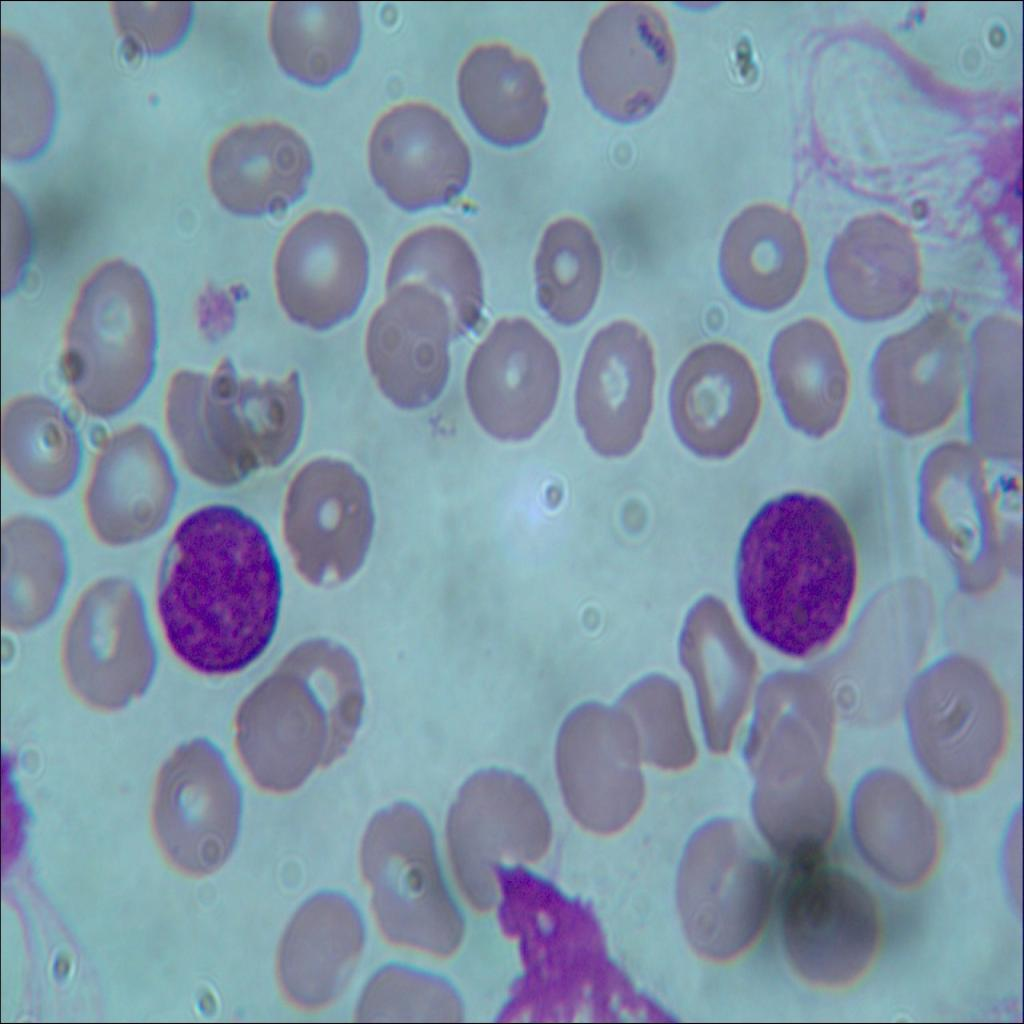Eritrosit: (358, 788, 464, 961), (459, 302, 563, 455), (63, 247, 159, 412), (58, 574, 162, 724), (678, 812, 775, 964), (571, 0, 674, 138), (678, 602, 772, 752), (908, 658, 1013, 791), (448, 755, 544, 900), (281, 450, 379, 588), (926, 438, 1008, 598), (449, 24, 553, 150), (868, 294, 966, 426), (202, 111, 315, 222), (555, 698, 648, 831), (272, 208, 366, 338), (708, 186, 802, 314), (264, 886, 359, 1012), (156, 735, 244, 871), (576, 318, 662, 457), (279, 624, 374, 749), (74, 421, 171, 541), (786, 865, 878, 991), (390, 214, 488, 332), (229, 672, 323, 795), (744, 730, 833, 858), (950, 304, 1024, 455), (670, 340, 758, 462), (374, 97, 468, 211), (766, 314, 851, 440), (614, 661, 700, 785), (209, 362, 304, 474), (746, 666, 846, 772), (830, 202, 918, 322), (856, 771, 942, 889), (163, 360, 242, 488), (370, 284, 448, 410), (0, 515, 75, 641), (259, 0, 365, 87), (0, 387, 78, 504), (0, 37, 59, 186), (538, 211, 604, 340), (351, 961, 459, 1023)
Limfoblast: (158, 501, 284, 684), (738, 497, 858, 661)
Platelet: (191, 272, 246, 343), (139, 79, 163, 108)
